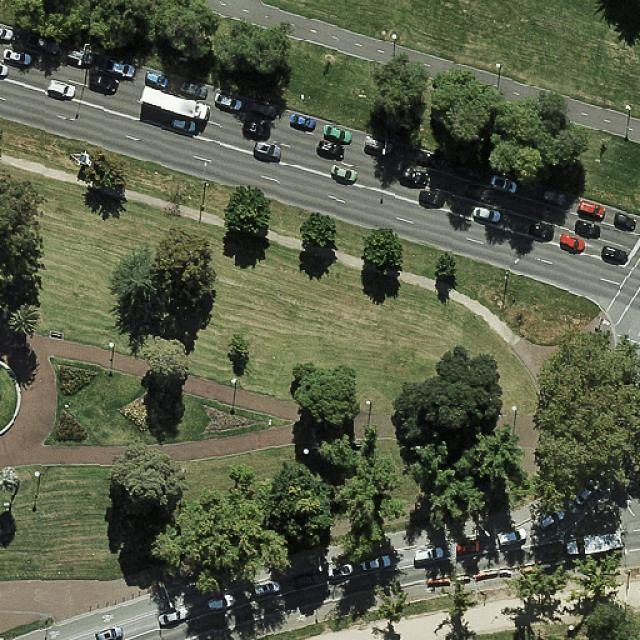Bike-Symbols: (102, 614, 115, 624), (48, 630, 60, 640)
